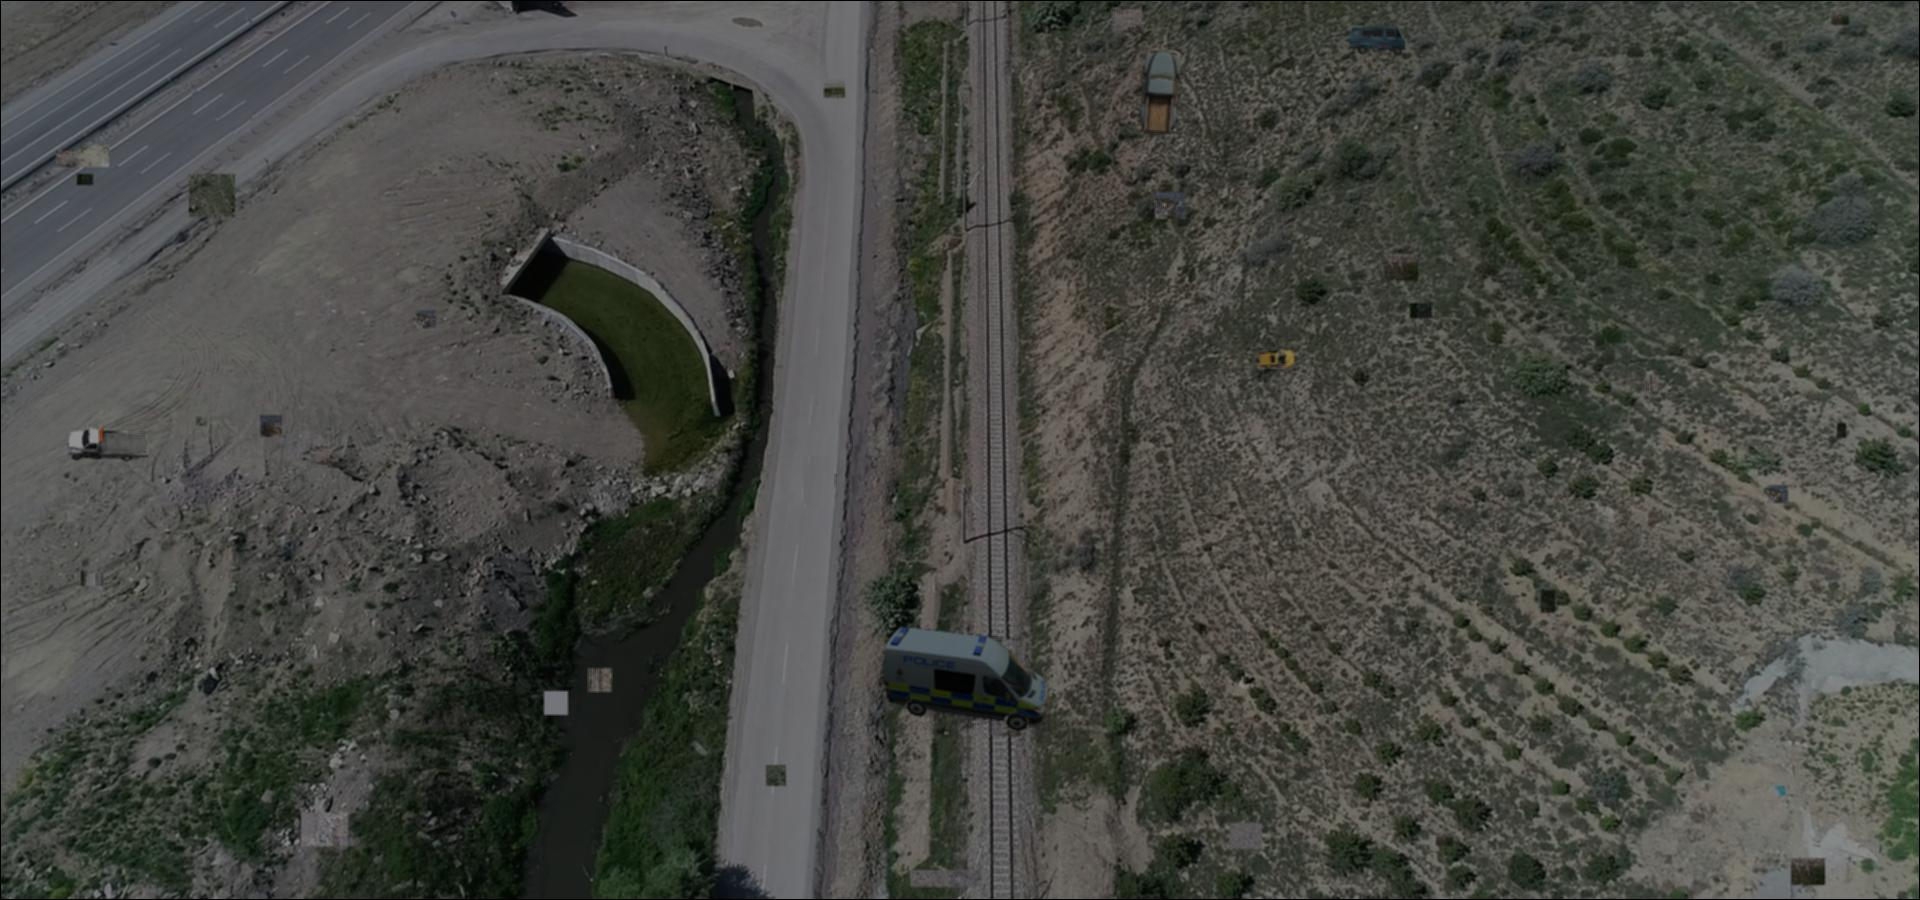arac: (880, 624, 1051, 730), (1140, 49, 1182, 135), (69, 424, 149, 460), (1348, 26, 1406, 56), (1255, 347, 1296, 371)
